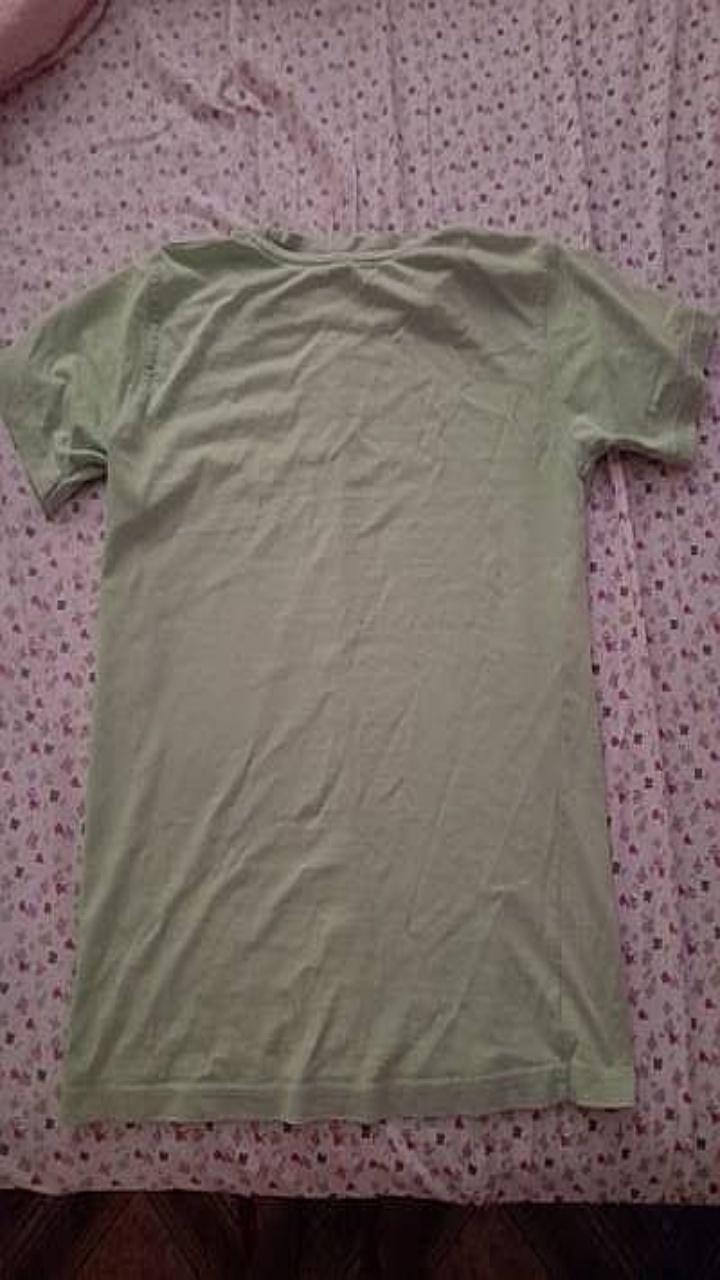T-Shirt: (0, 229, 710, 1120)
